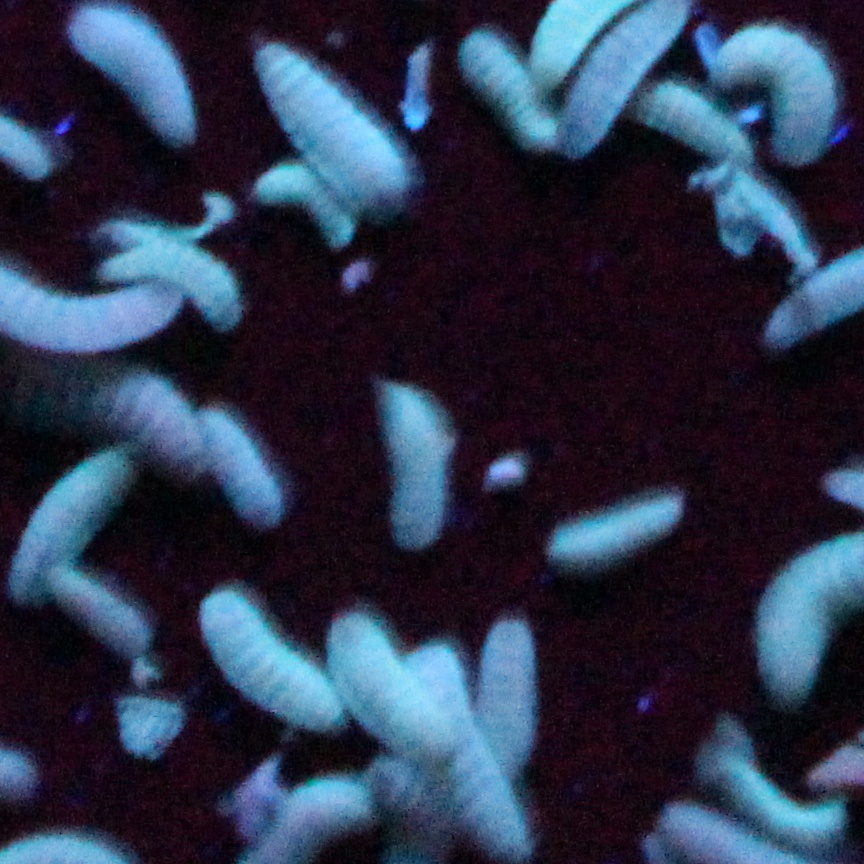larve: (254, 42, 412, 227), (404, 645, 532, 855), (39, 350, 201, 476), (201, 588, 341, 729), (10, 447, 132, 604), (70, 5, 195, 143), (713, 26, 836, 165), (331, 613, 448, 756), (99, 241, 240, 326), (717, 753, 843, 842), (380, 378, 445, 548), (628, 79, 751, 167), (461, 32, 555, 145), (200, 411, 282, 526), (480, 614, 536, 771), (547, 495, 677, 560), (50, 569, 145, 655), (256, 164, 353, 248)
